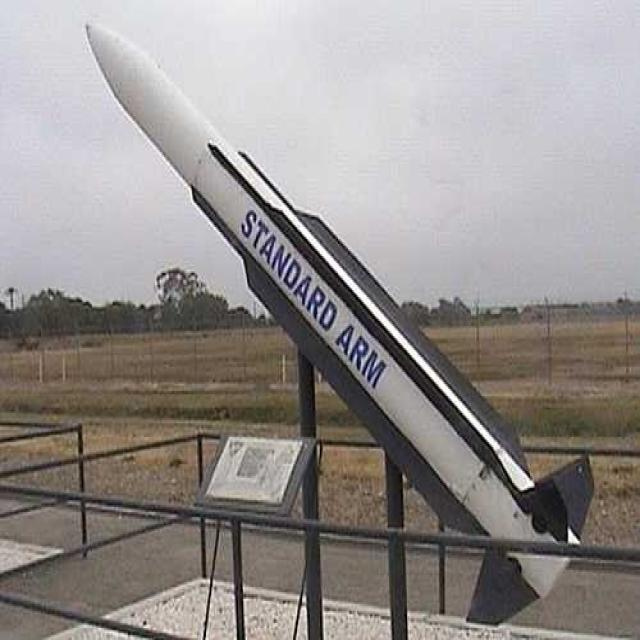missile: (83, 19, 597, 639)
